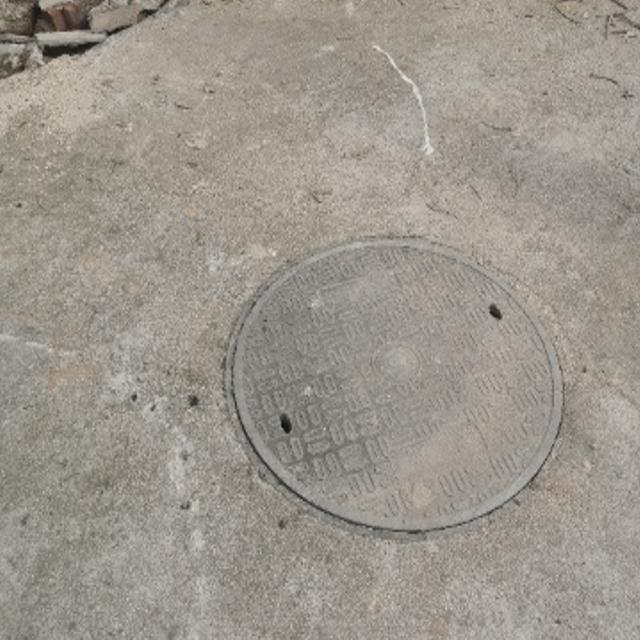good: (224, 237, 566, 538)
